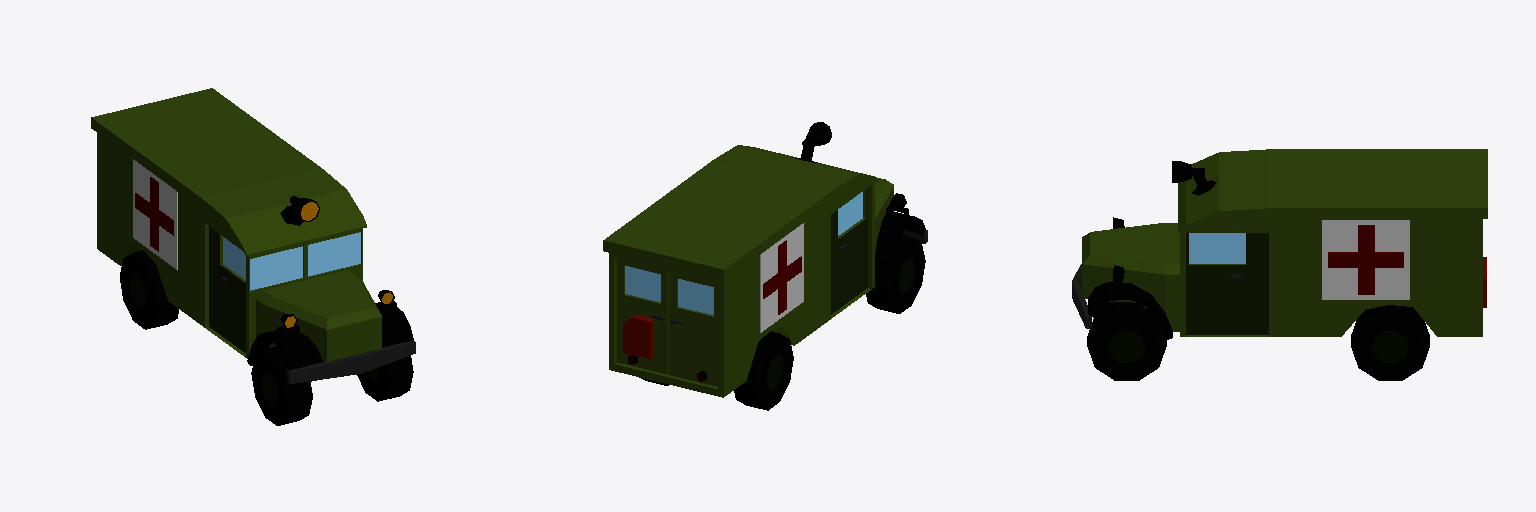
Rendered from AmbulanceCar.obj.
3 views of the same model, side by side, from view 1: azimuth 30°, elevation 25°; view 2: azimuth 150°, elevation 25°; view 3: azimuth 270°, elevation 25° (orthographic).
Visible parts, largest first — view 1: Ambulance_Cylinder.010; view 2: Ambulance_Cylinder.010; view 3: Ambulance_Cylinder.010.
Boxes of the visible parts, x1=… form: Ambulance_Cylinder.010: x1=91, y1=88, x2=415, y2=425; Ambulance_Cylinder.010: x1=603, y1=122, x2=927, y2=410; Ambulance_Cylinder.010: x1=1072, y1=149, x2=1487, y2=380.
Size of the model in its own units: 1.49 by 2.13 by 4.24.